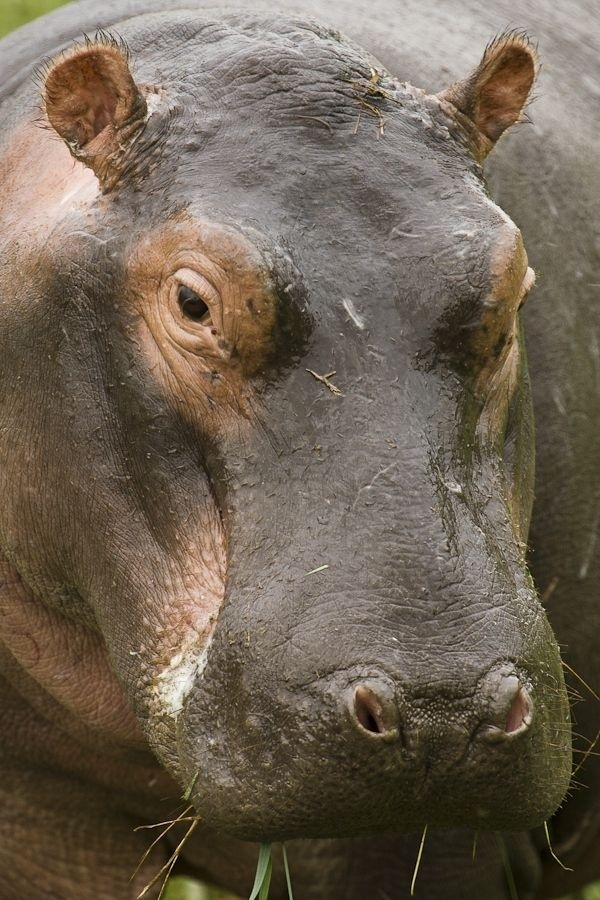hipopotamo: (4, 2, 600, 900)
